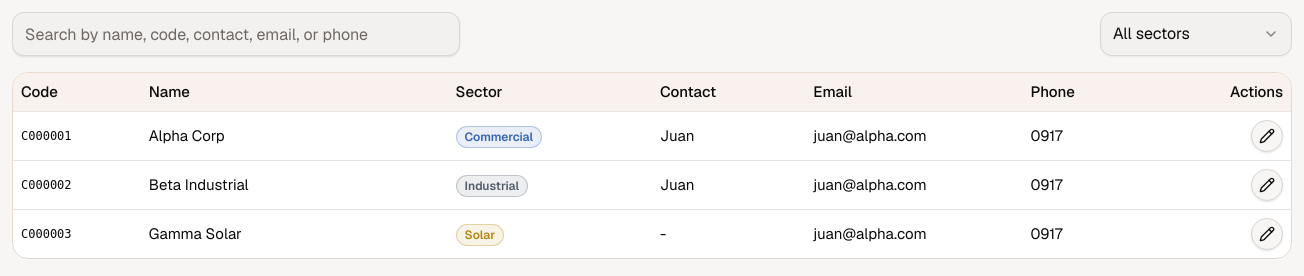
Test: ClientsTable › filters by search text across code, name, contact, and sector
Step 1. Type "beta" into the field named "Search clients" → (236, 34), box [12,12,460,56]
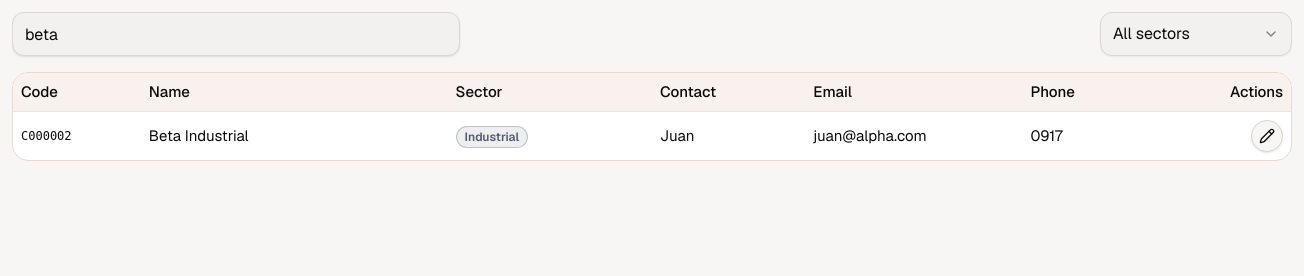
Result: the text "Beta Industrial" is shown 2 times
Result: the button "Alpha Corp" is gone
Result: the button "Gamma Solar" is gone
